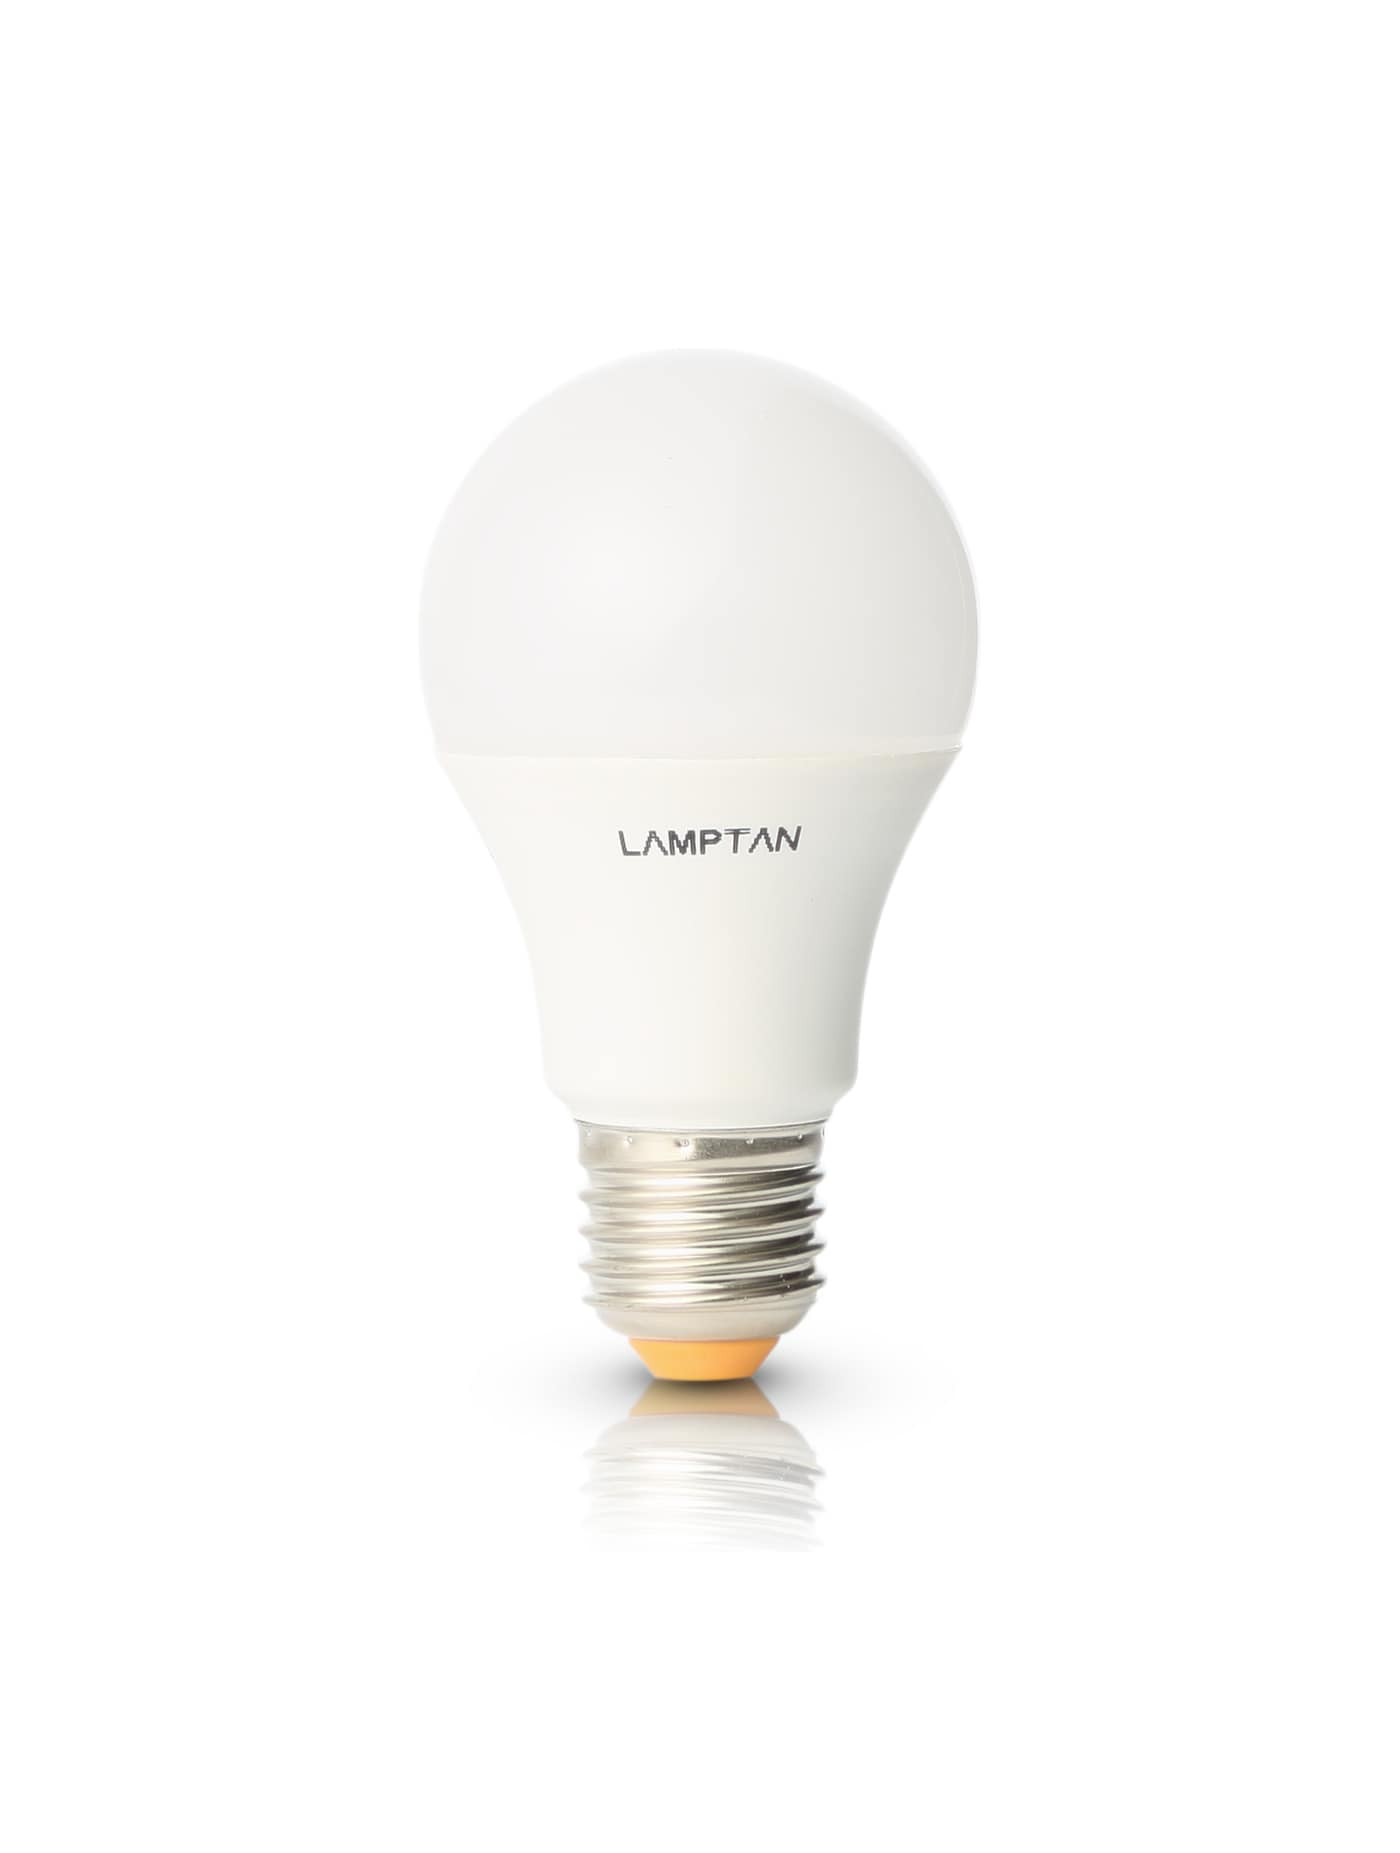Light_bulb: (387, 303, 1018, 1428)
